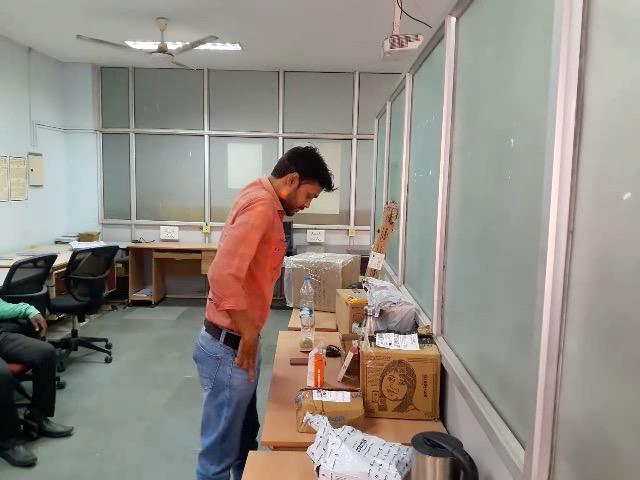shoplifting: (219, 322, 269, 411)
